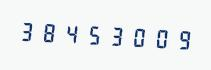eight: (39, 16, 60, 47)
five: (83, 18, 104, 49)
four: (61, 17, 82, 48)
nine: (171, 23, 192, 54)
three: (17, 15, 38, 46), (105, 20, 126, 51)
zero: (127, 21, 148, 52), (149, 22, 170, 53)
